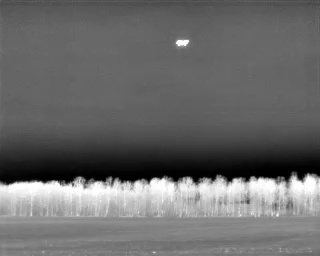DRONE: (172, 34, 193, 52)
